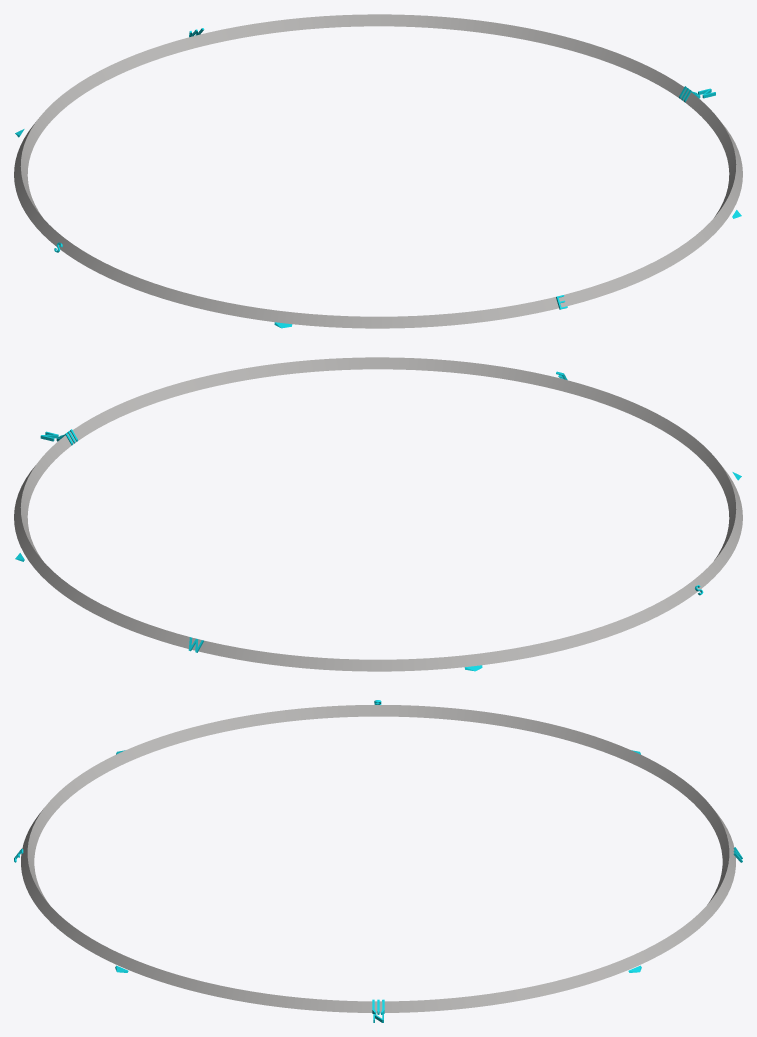
File: WindRoseSmooth.fbx
The picture shows the model from 3 angles, top to bottom: view 1: azimuth 30°, elevation 25°; view 2: azimuth 150°, elevation 25°; view 3: azimuth 270°, elevation 25°; orthographic projection.
Parts seen in each view (by area): view 1: WindDirections; view 2: WindDirections; view 3: WindDirections.
Boxes of the visible parts, box(x1,y1,x2,y2) form: WindDirections: box(14, 14, 742, 328); WindDirections: box(14, 357, 742, 671); WindDirections: box(14, 700, 742, 1022).
Bounding box in the file's own units: 213 × 3.9 × 208.
